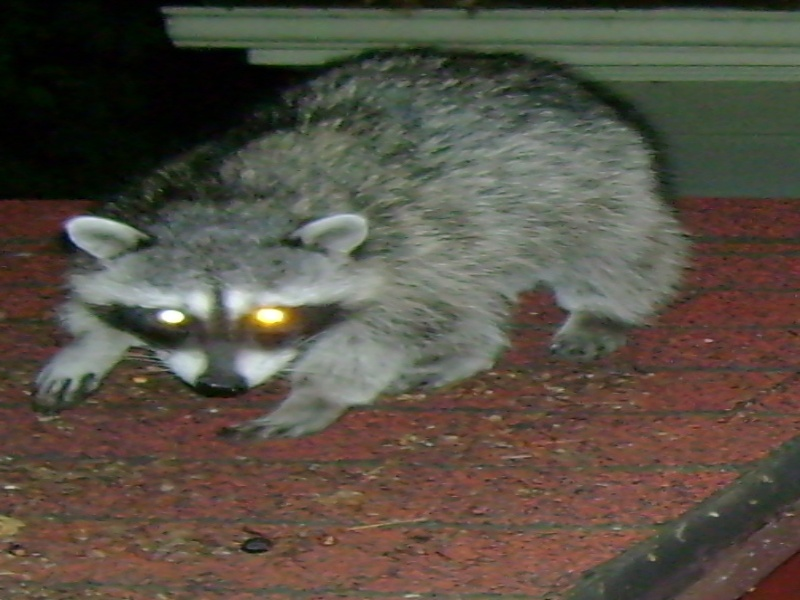raccoon: (33, 47, 689, 443)
